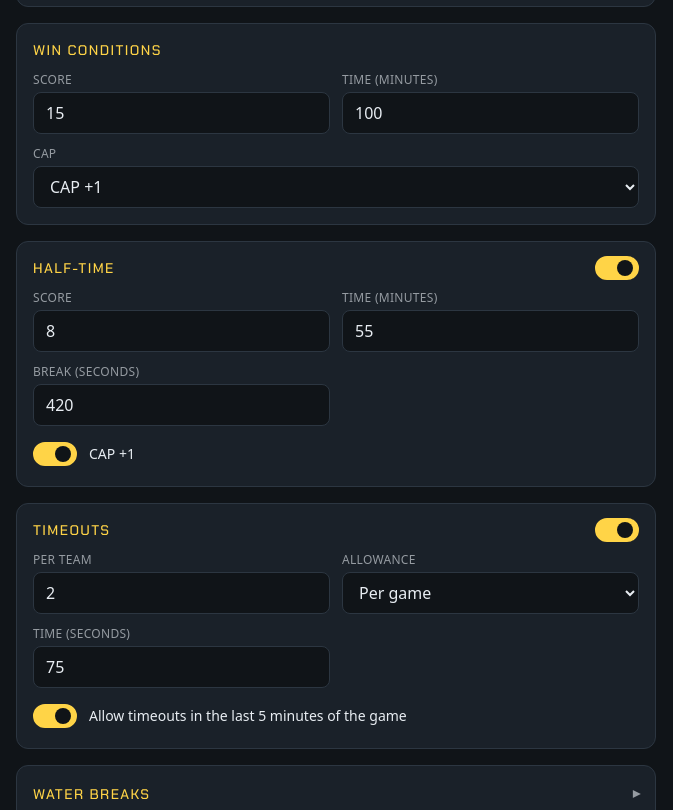
it: config screen numeric fields › keeps a blurred empty field on its last committed value
The width and height of the screenshot is (673, 810).
(page scrolled)
Step 1. Clear the field below "break (seconds)" → (182, 405), box [33,384,330,426]
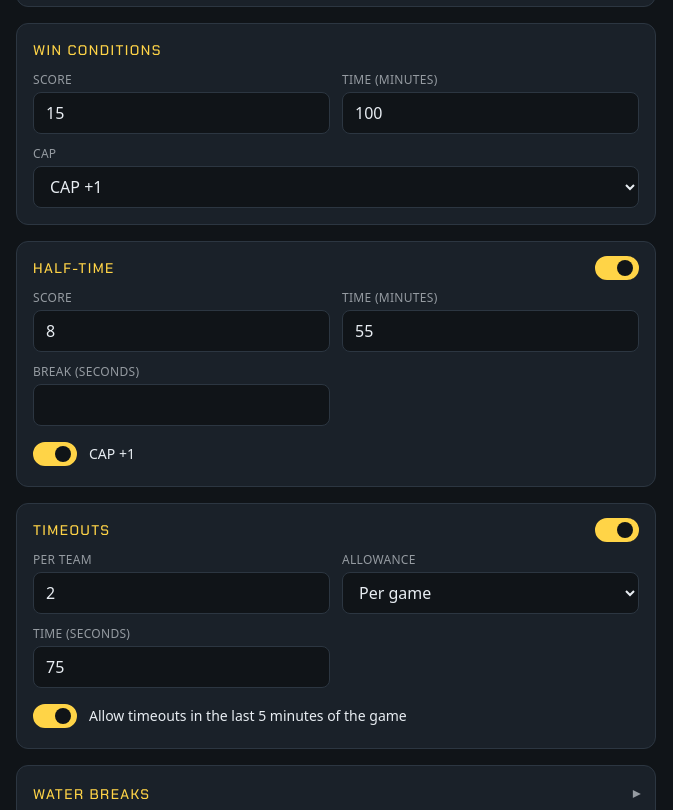
Step 2. Leave the field below "break (seconds)", box [33,384,330,426]
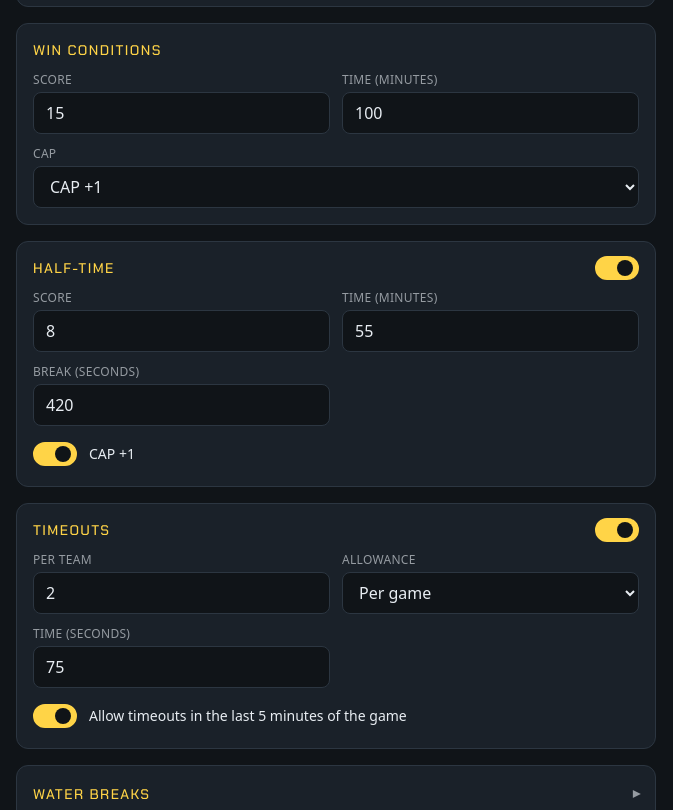
Expected: the field below "break (seconds)" holds "420", [33,384,330,426]
